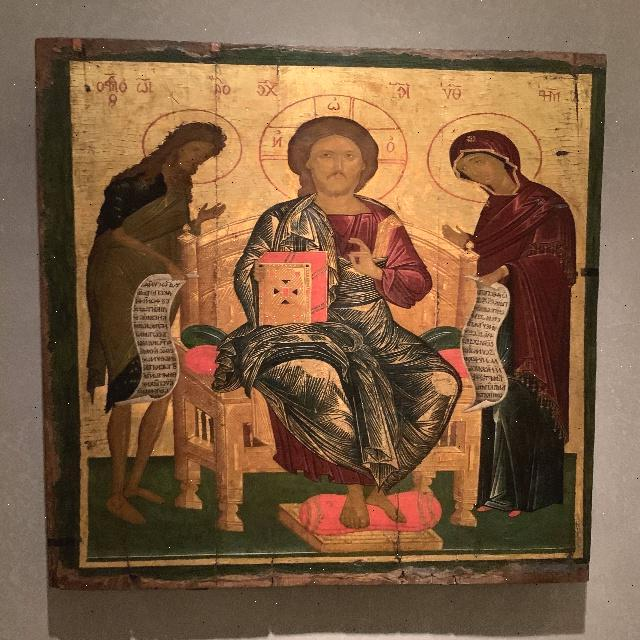aura: (259, 94, 408, 200), (431, 109, 543, 205), (140, 106, 242, 184)
book: (257, 252, 330, 326)
christ: (243, 86, 434, 547)
hand: (343, 237, 381, 280)
mary: (426, 110, 579, 519)
saint: (96, 104, 231, 512)
scroll: (119, 274, 192, 407), (459, 276, 510, 411)
